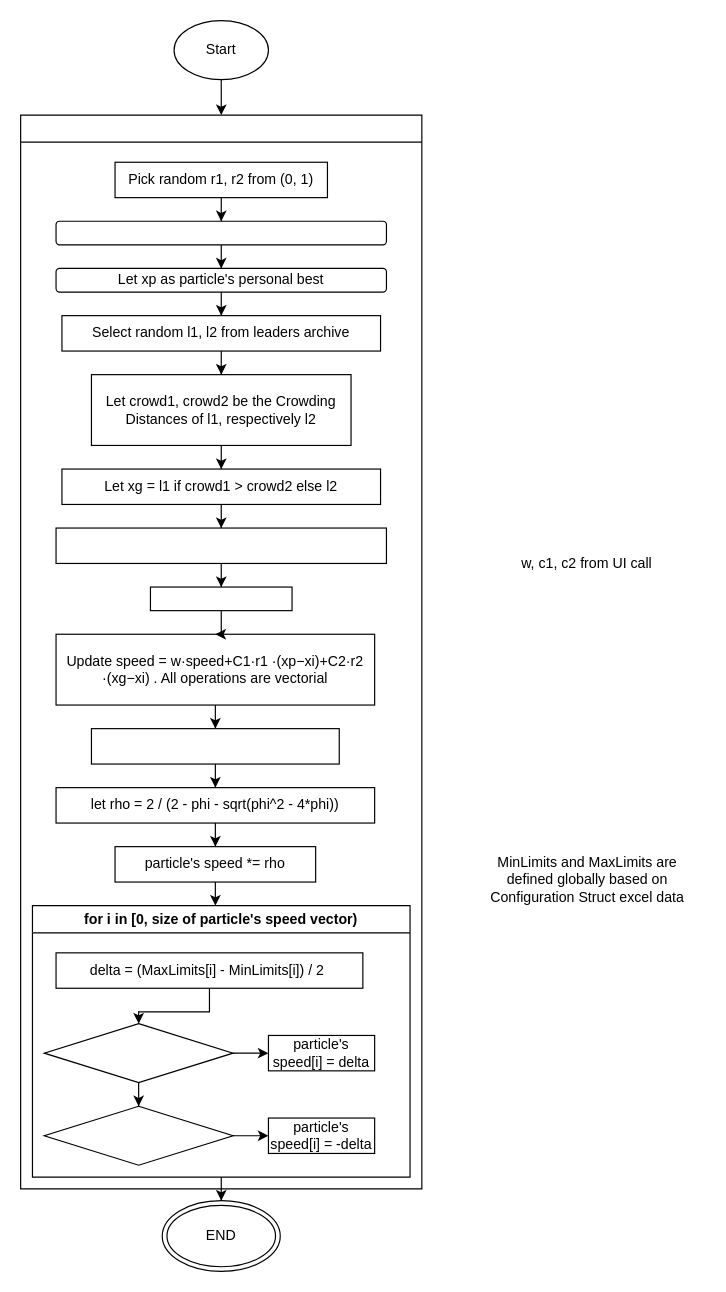
Some shapes in this 726 by 1292 pixel diagram are drawn without their labels. Here are the shapes that lost their labels. From the top down, the box of each, then its label:
(55, 220, 386, 245): Let xi as particle's position
(55, 527, 386, 563): Set c1, c2 randomly from [1.5, 2.5]
(149, 586, 292, 611): Set w = 0.1
(19, 114, 422, 1189): For particle in swarm
(90, 727, 339, 764): Let phi = c1+c2 if c1+c2>4 else 0
(43, 1022, 233, 1083): particle's speed[i] > delta
(43, 1105, 233, 1165): particle's speed[i] <= -delta
